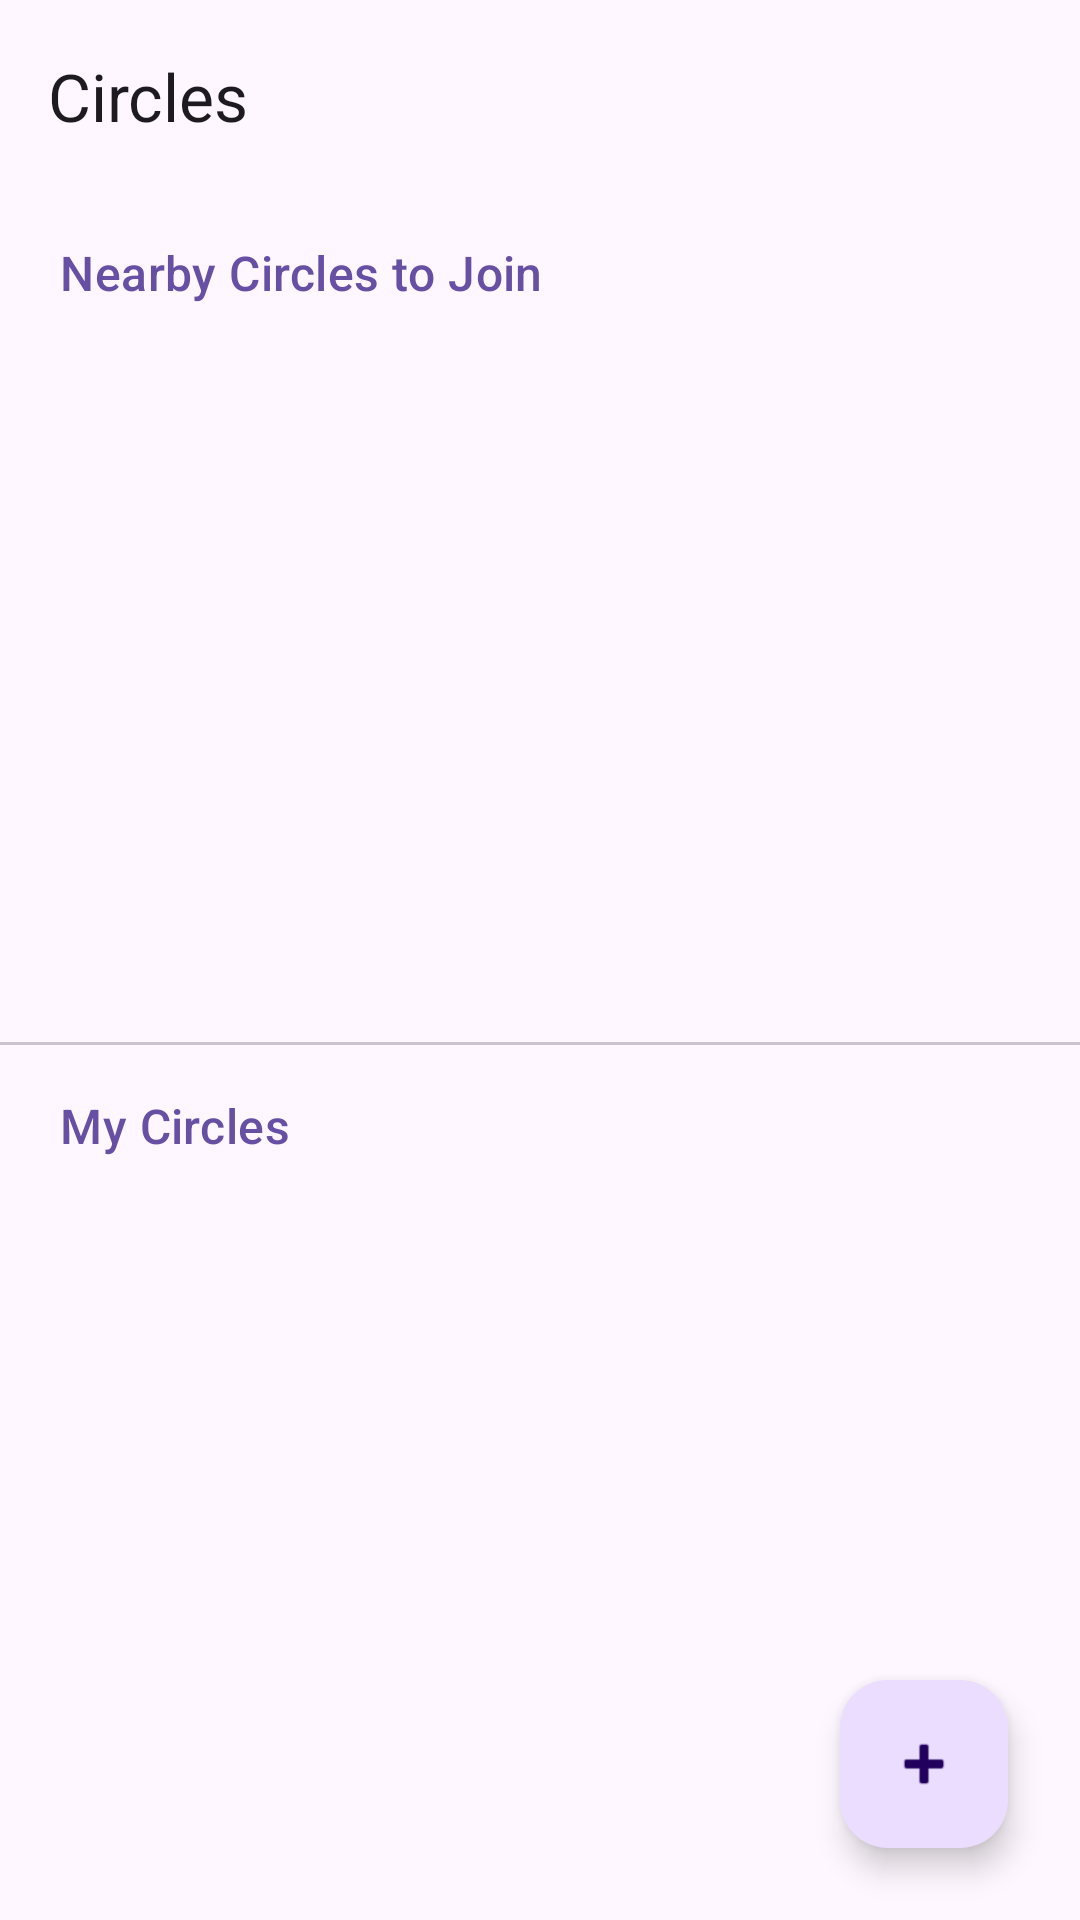

Where to tap for icons on this 1080w x 1920h app screen, as (x=x, y=y):
Create New Circle: (x=924, y=1764)
